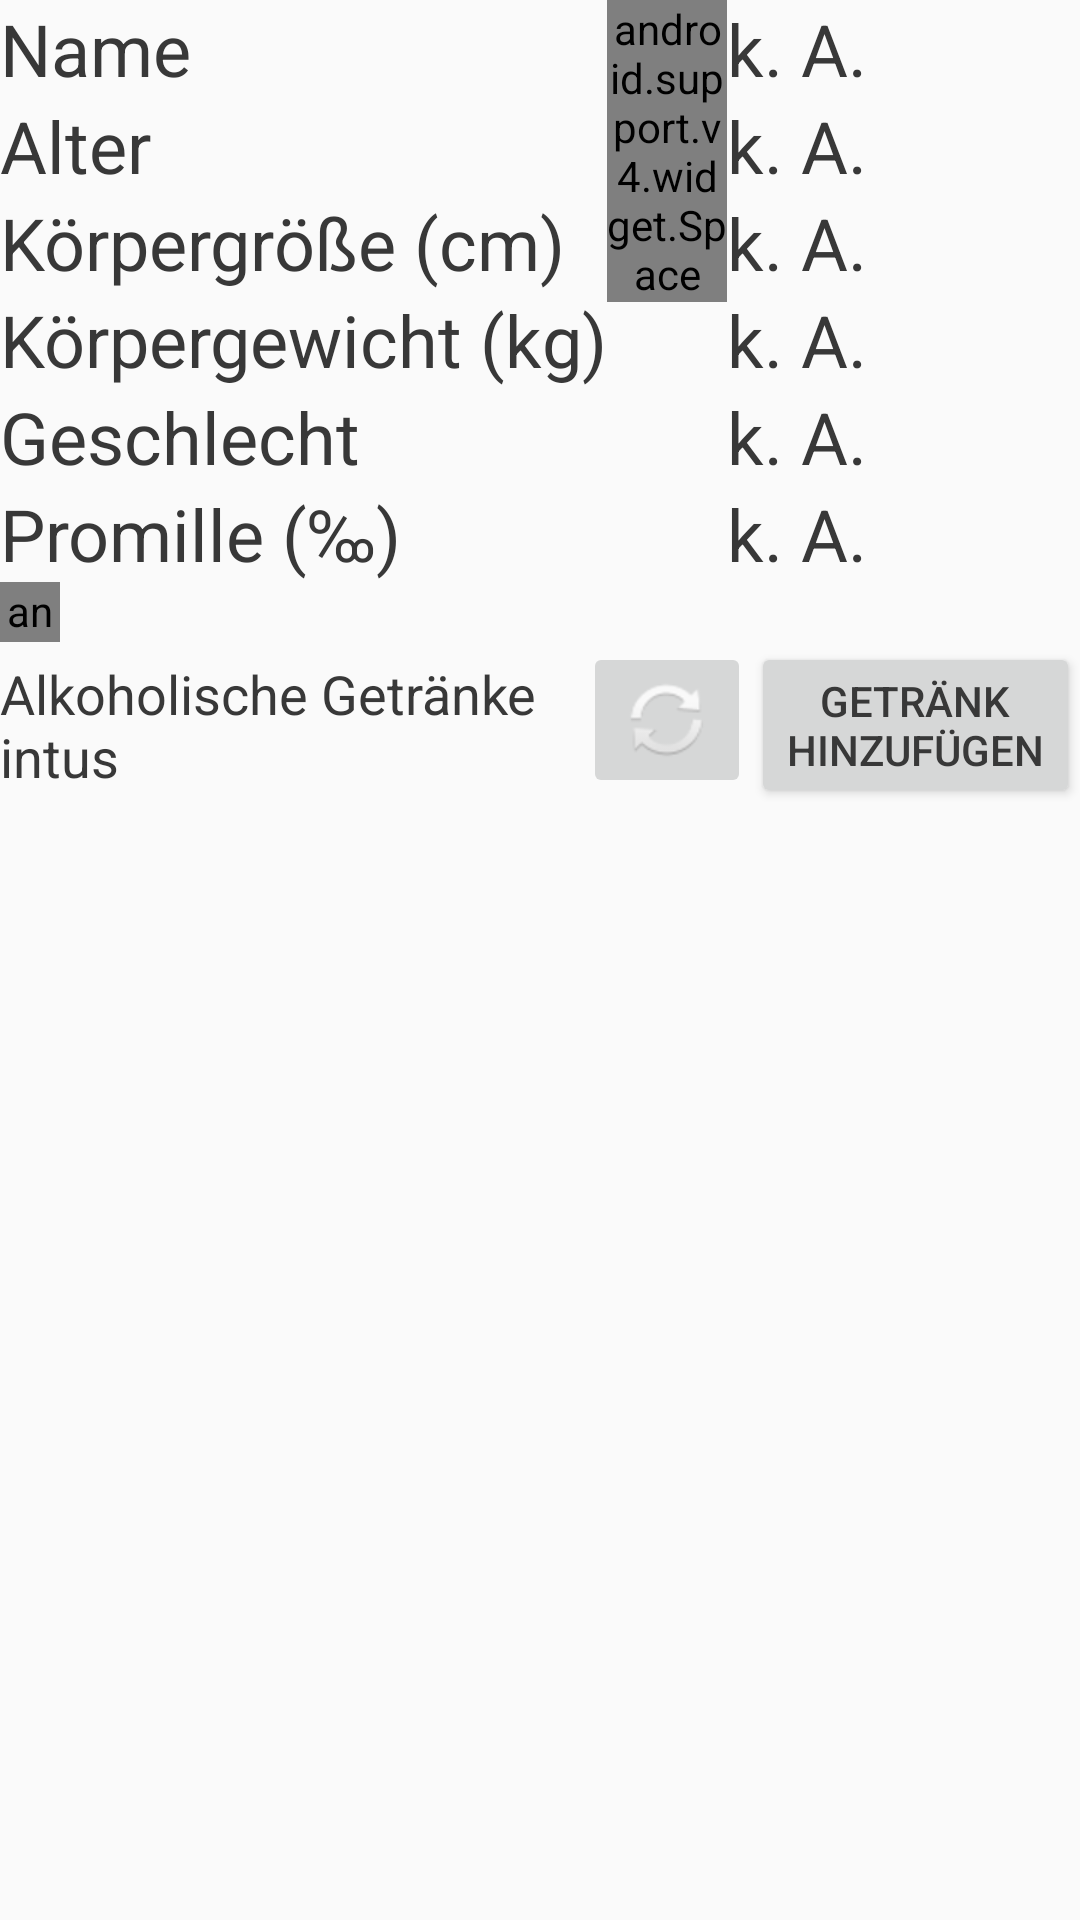

Screen size 1080px x 1920px. Icon name, then its center in pixels as point (x, y):
popup sync: point (667, 720)
